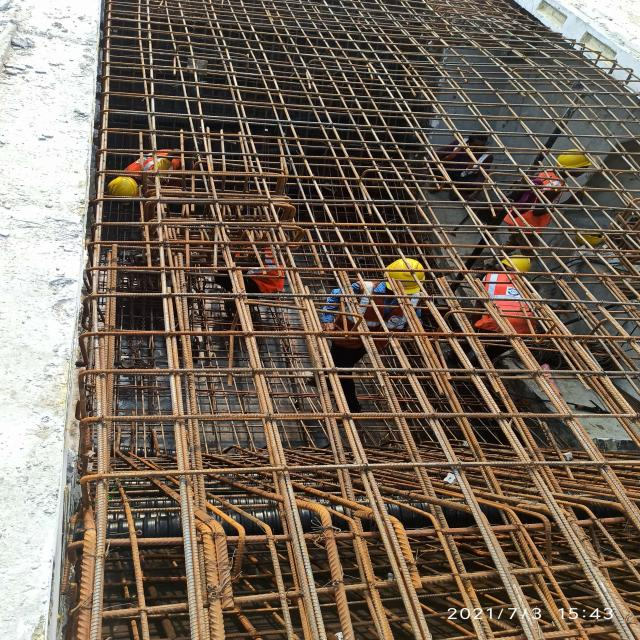Hardhat: (379, 258, 429, 298), (552, 144, 602, 174), (101, 176, 144, 196), (266, 195, 294, 221), (497, 253, 533, 270)
Person: (317, 258, 431, 413), (482, 146, 601, 255), (478, 259, 551, 342), (112, 145, 191, 198), (236, 220, 294, 290)
Safetyvest: (320, 281, 420, 334), (503, 165, 567, 229), (482, 272, 539, 338), (235, 246, 292, 287), (123, 146, 187, 173)
